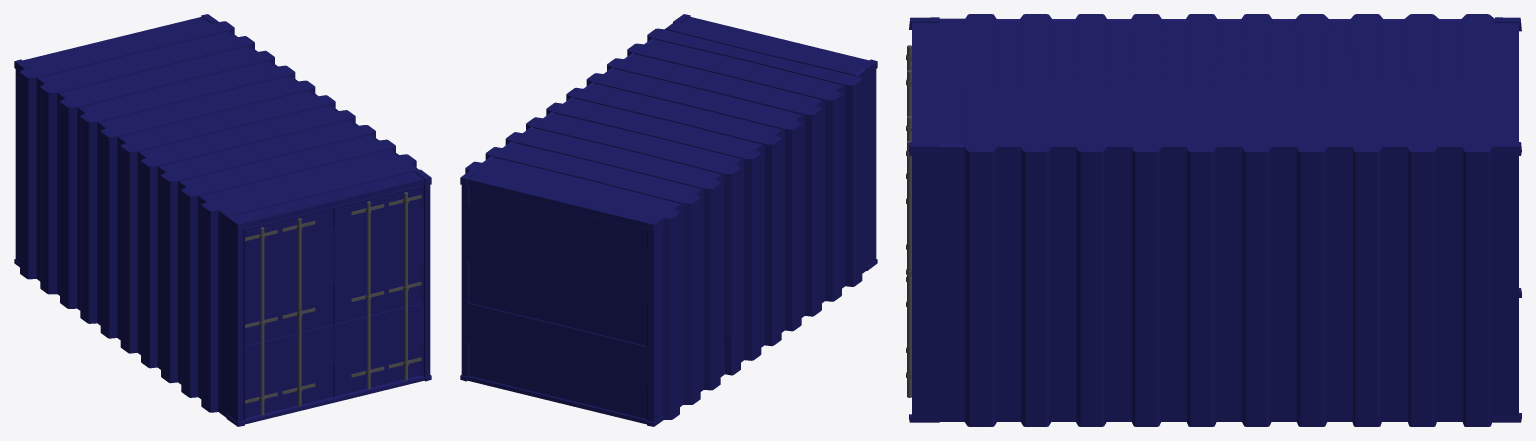
3 renders of one model, left to right at view 1: azimuth 30°, elevation 25°; view 2: azimuth 150°, elevation 25°; view 3: azimuth 270°, elevation 25°, orthographic. The views are drawn at different scales.
Parts seen in each view (by area): view 1: Cube, Cylinder.003, Cylinder, Cylinder.001, Cylinder.002; view 2: Cube; view 3: Cube, Cylinder.
Part boxes in pixels (x1,y1,x2,y2): Cube: (14,14,431,426); Cylinder.003: (260,227,264,415); Cylinder: (404,192,407,380); Cylinder.001: (367,201,370,389); Cylinder.002: (298,218,301,406); Cube: (460,14,877,426); Cube: (909,14,1521,426); Cylinder: (907,141,911,397).
Size of the model in its own units: 430 by 402 by 812.
